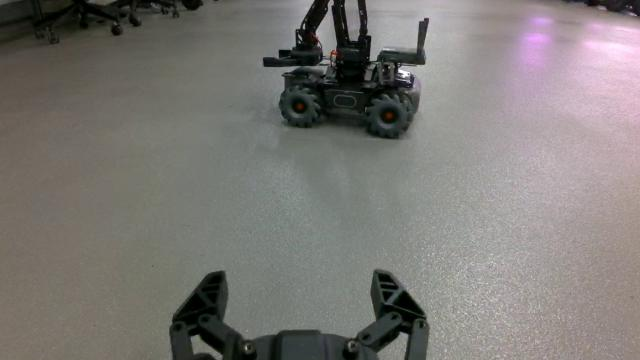robot: (262, 0, 431, 138)
